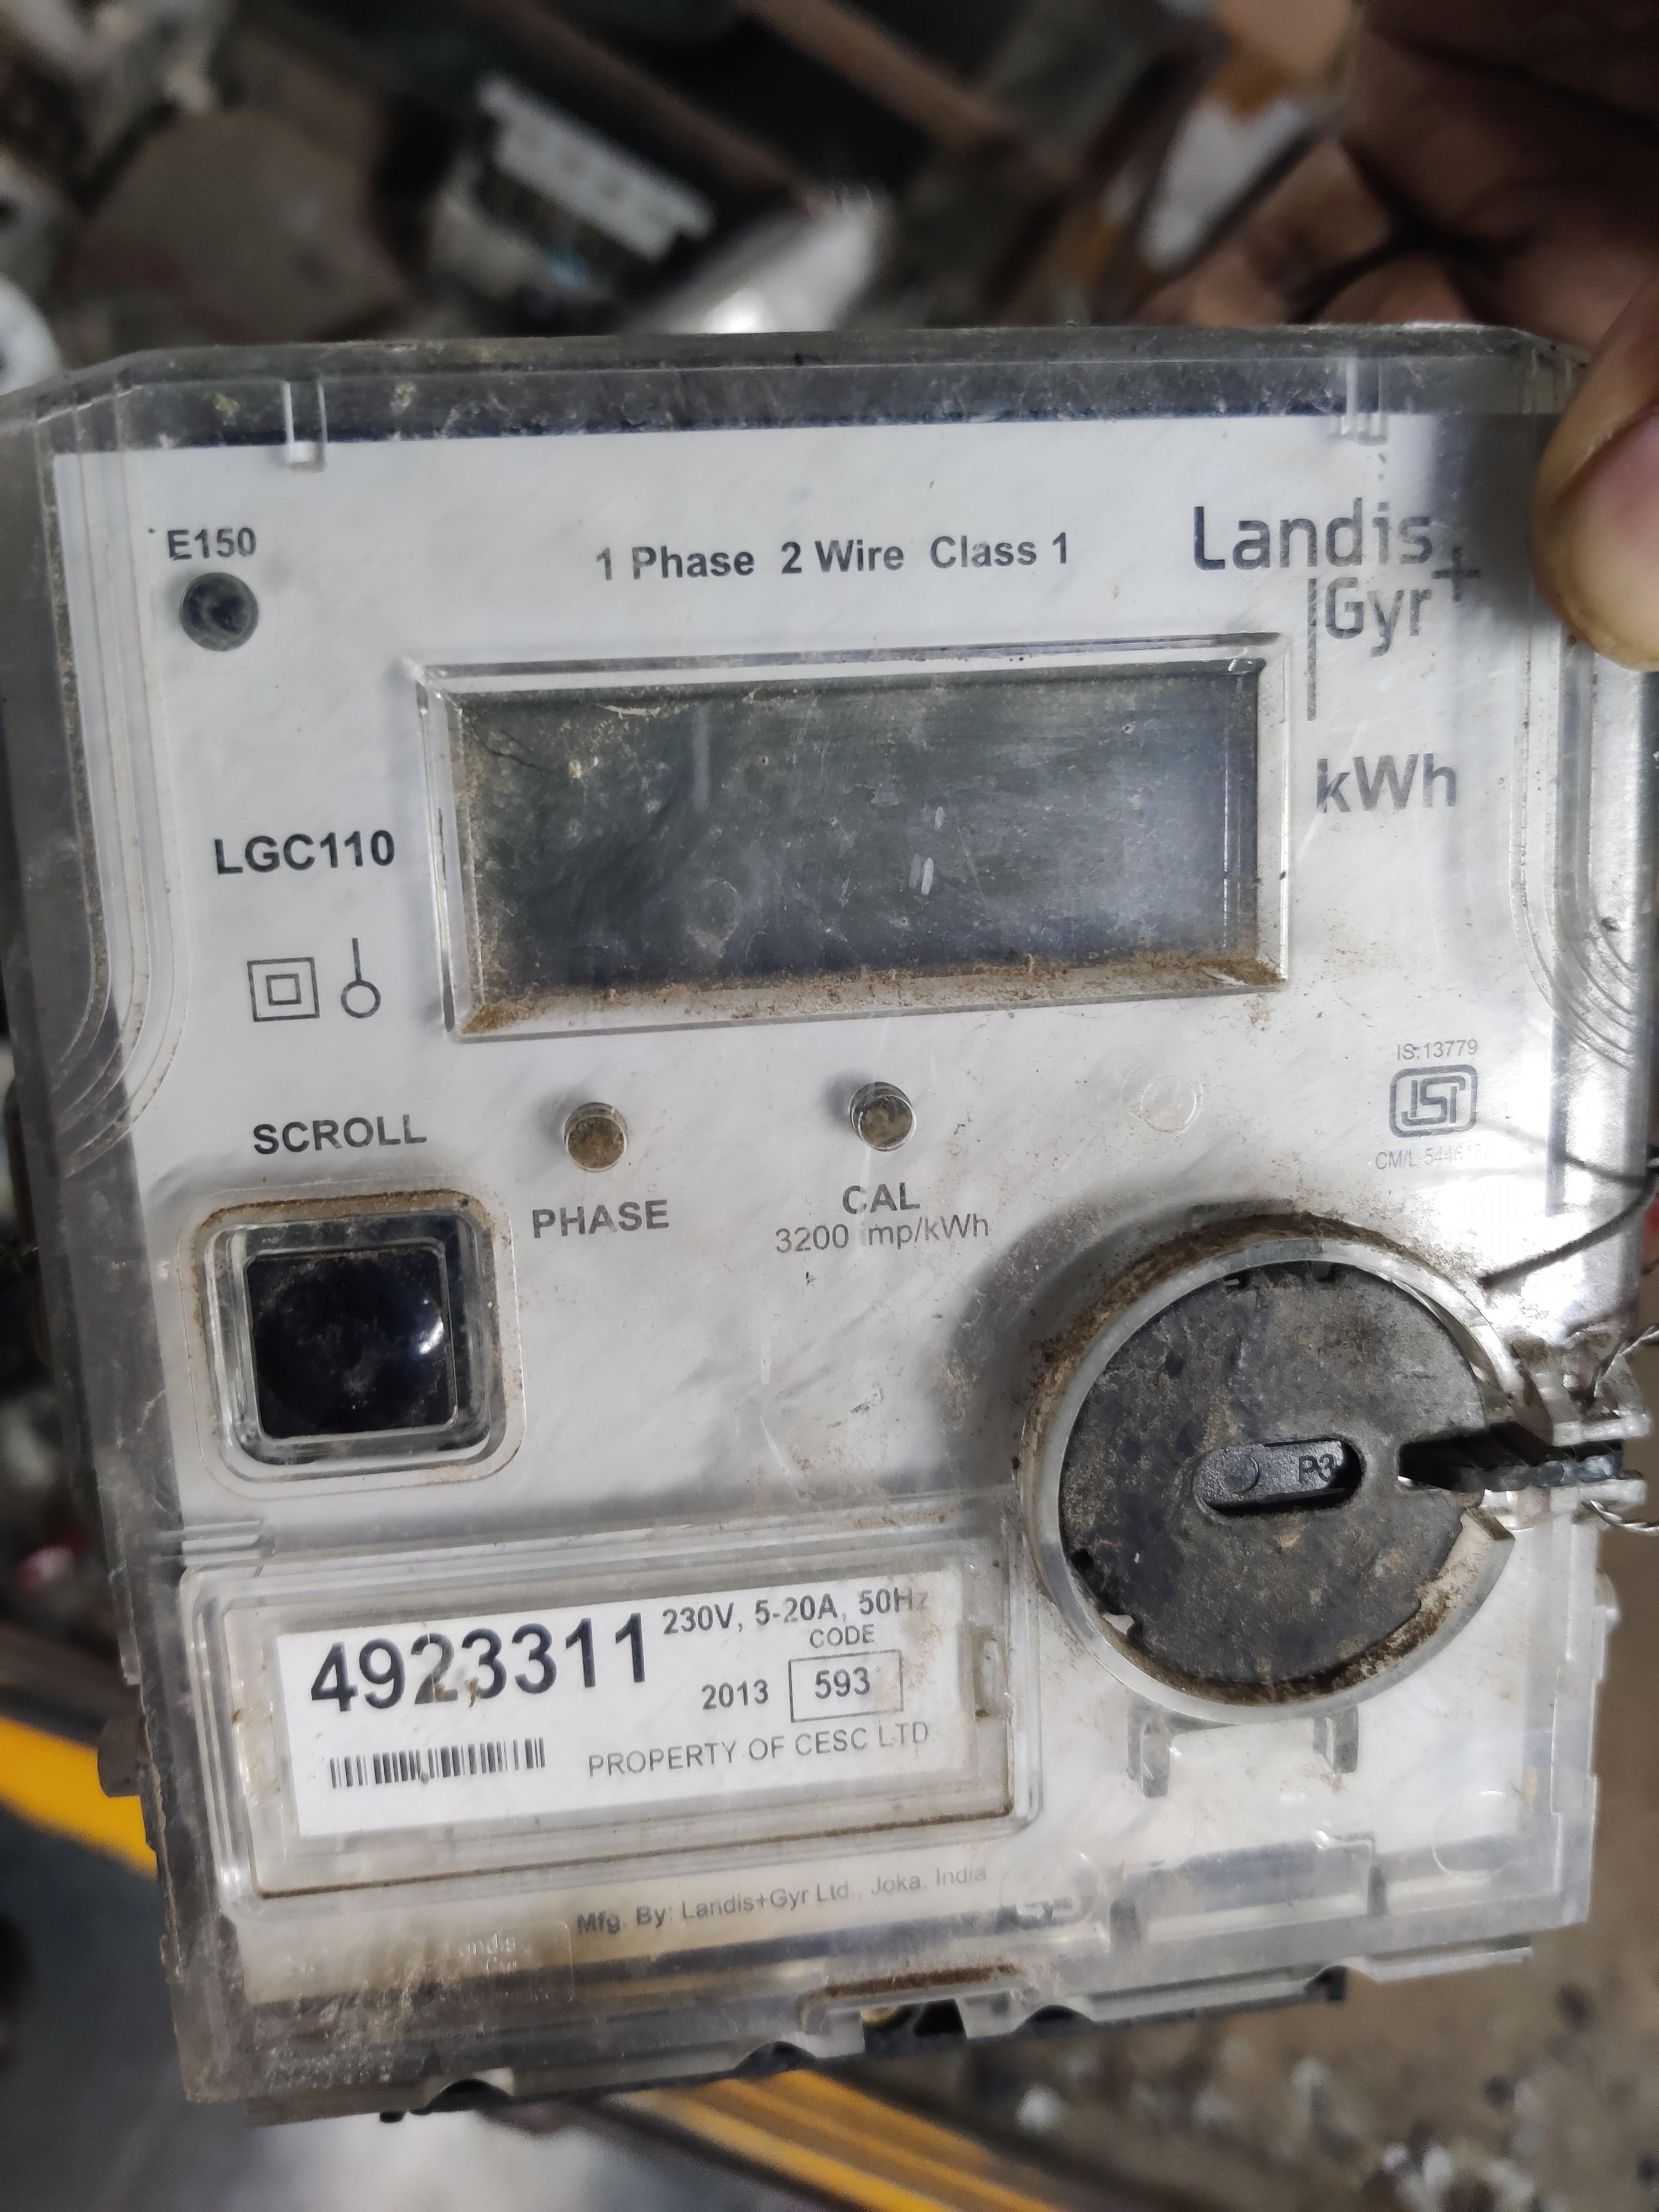meter_readings: (467, 704, 1249, 954)
serial_number: (298, 1609, 655, 1731)
